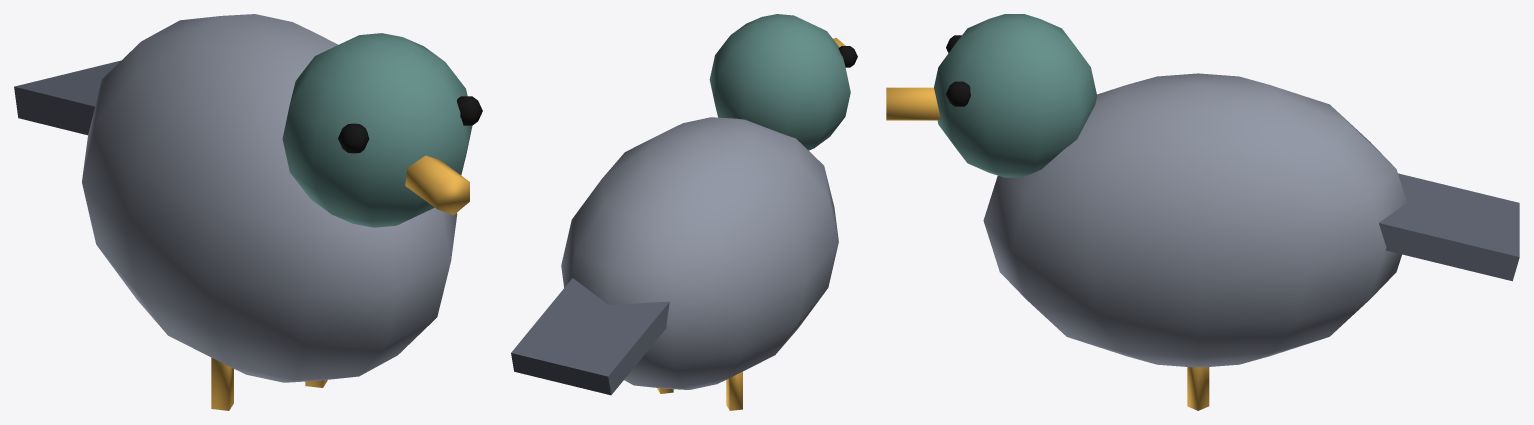
The model's file is pigeon.glb.
The picture shows the model from 3 angles, left to right: view 1: azimuth 30°, elevation 25°; view 2: azimuth 150°, elevation 25°; view 3: azimuth 270°, elevation 25°; orthographic projection. The views are drawn at different scales.
Visible parts, largest first — view 1: pigeon; view 2: pigeon; view 3: pigeon.
Boxes of the visible parts, <box> form: pigeon: <box>14,14,482,410</box>; pigeon: <box>511,14,857,410</box>; pigeon: <box>886,14,1519,410</box>.
Bounding box in the file's own units: 0.306 × 0.44 × 0.6905.
